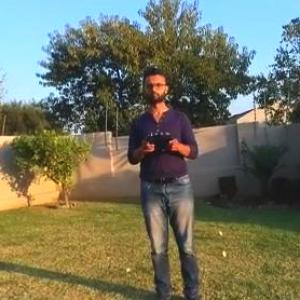follow: (118, 63, 204, 299)
